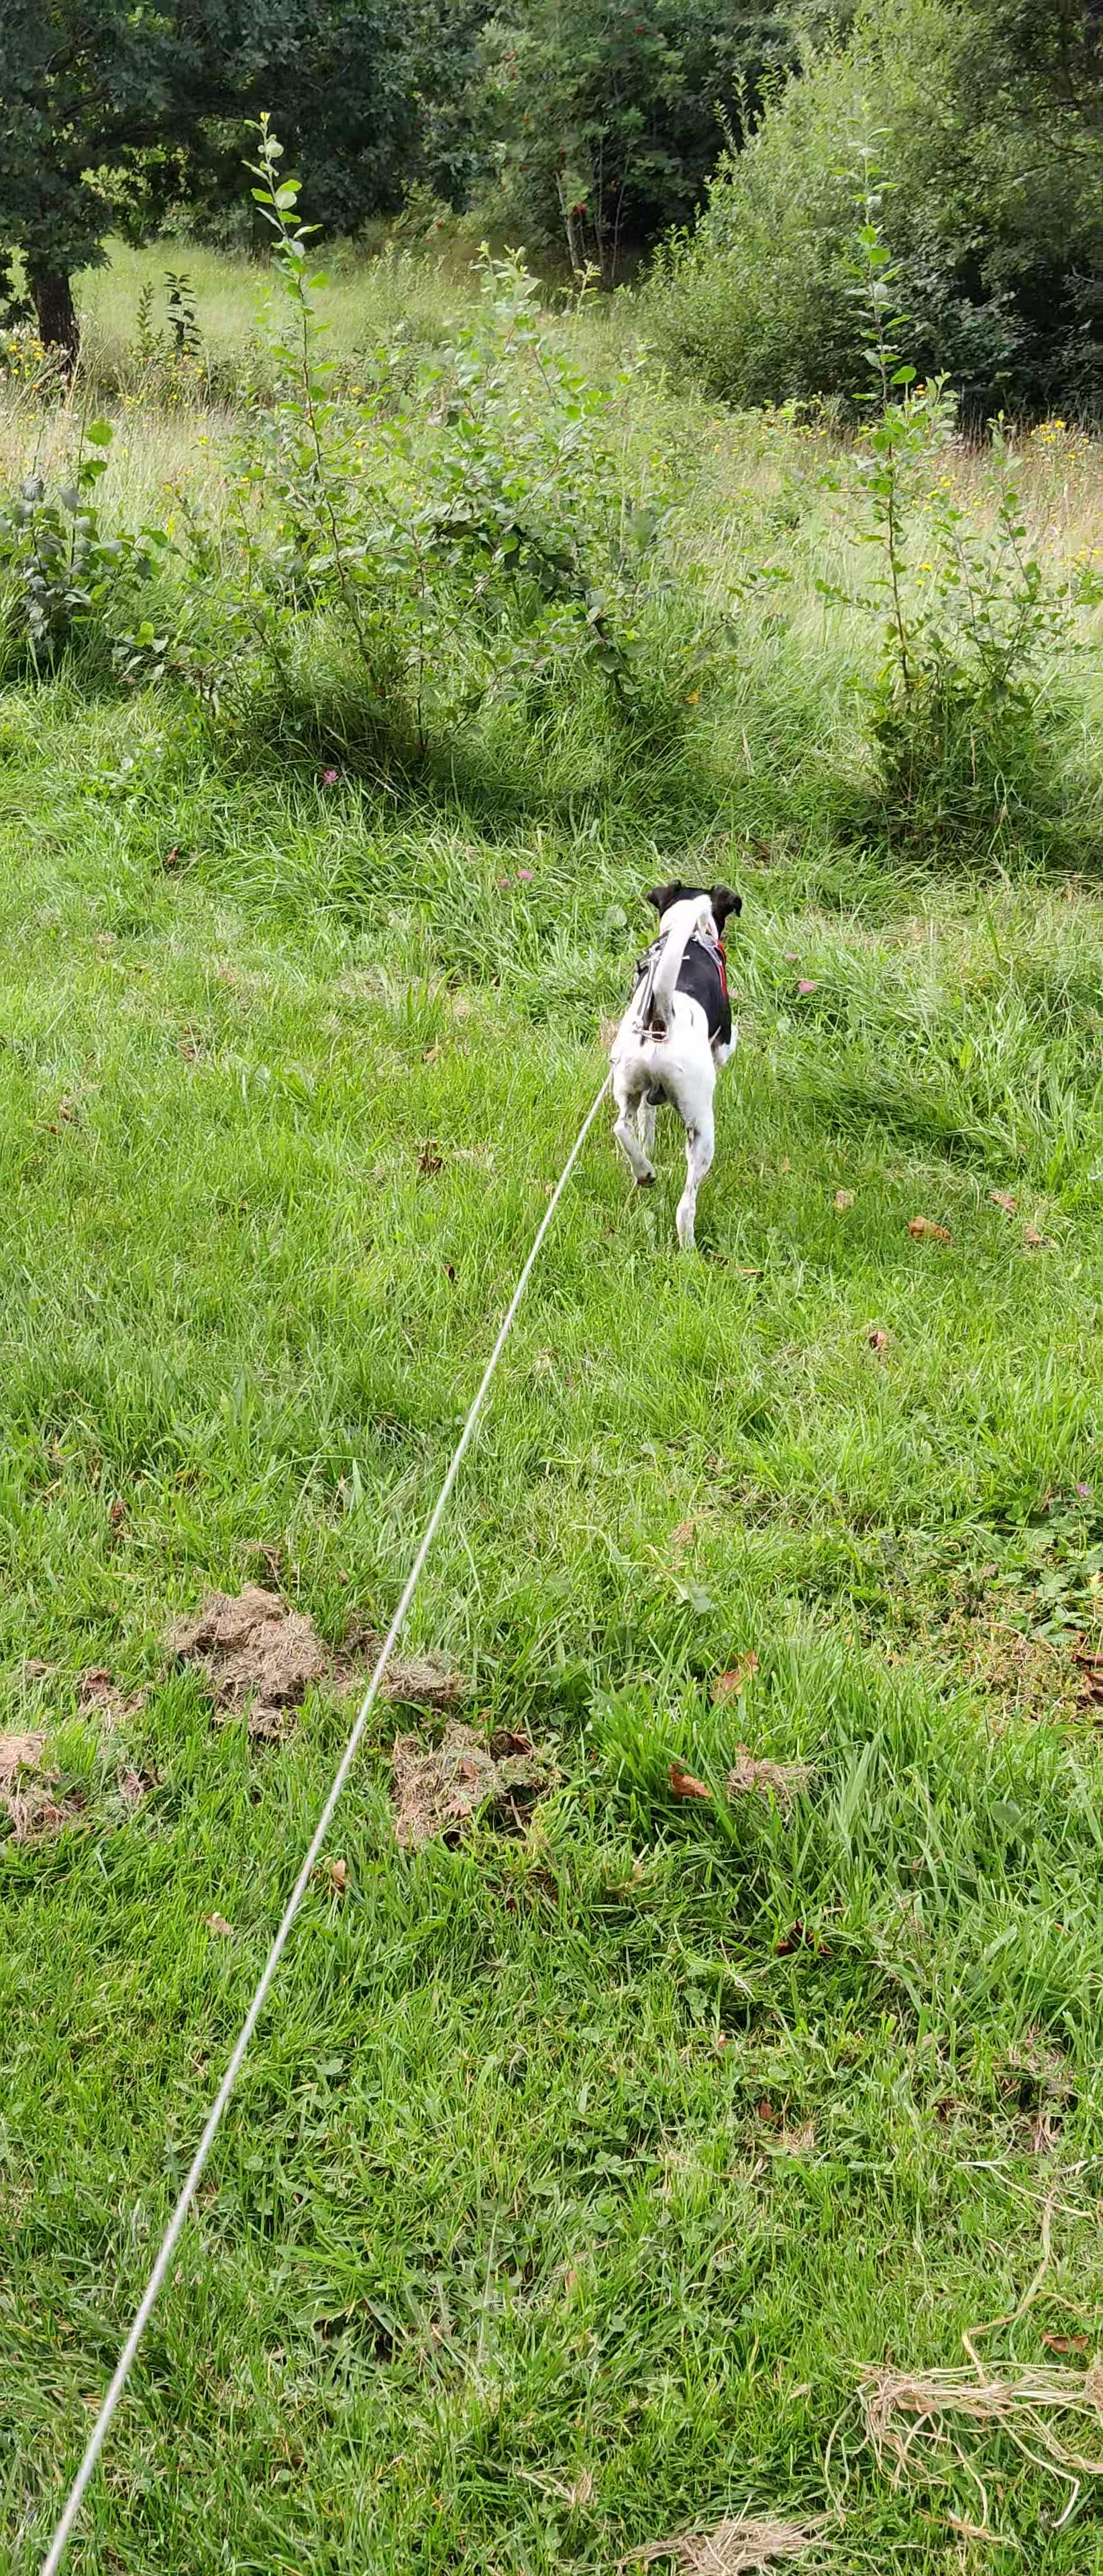Dog: (597, 866, 746, 1267)
